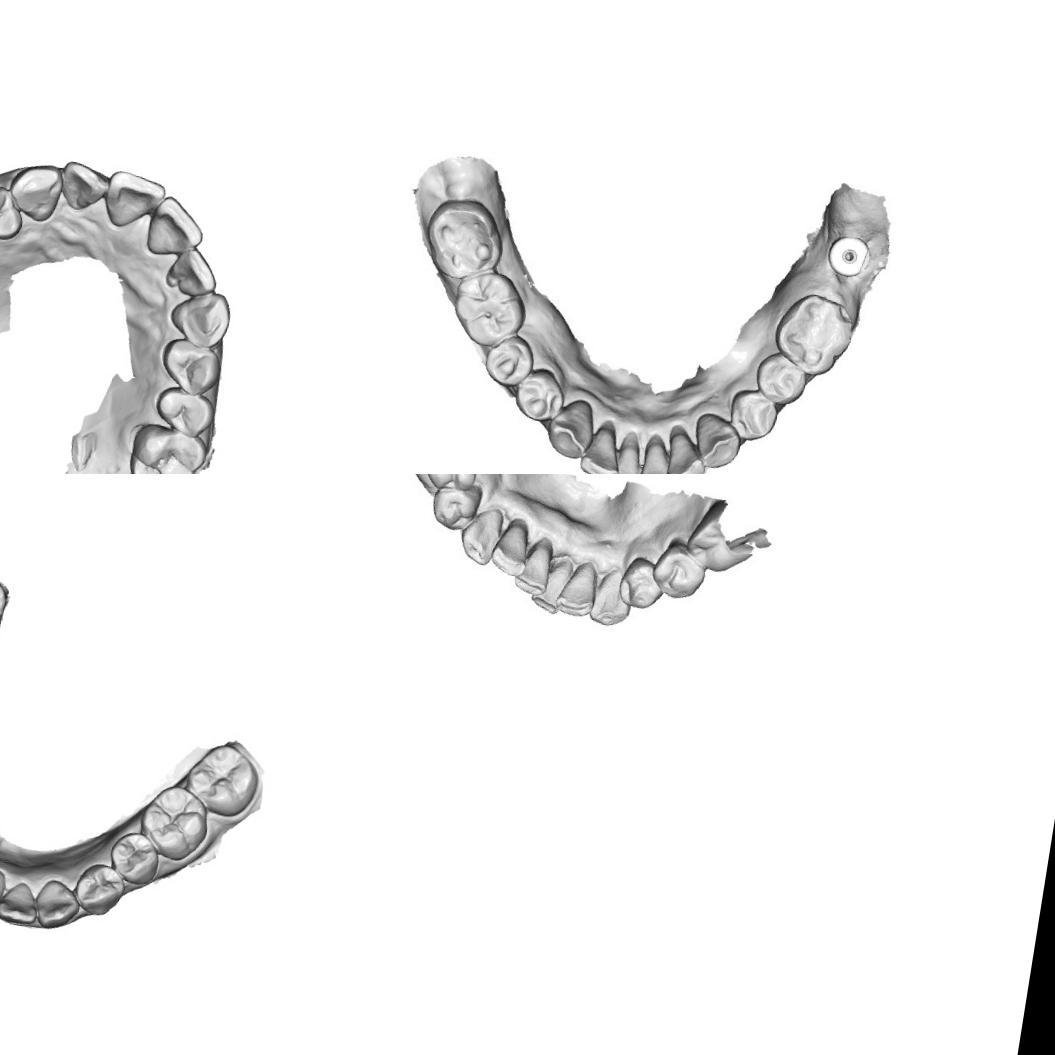canine: (164, 284, 236, 352), (4, 156, 66, 228), (541, 395, 598, 460), (690, 409, 745, 470), (458, 505, 509, 568), (31, 876, 84, 933), (593, 570, 633, 630)
implant: (824, 232, 871, 278)
incisor: (142, 191, 212, 263), (98, 168, 168, 236), (160, 239, 224, 303), (55, 156, 116, 218), (487, 522, 535, 579), (578, 418, 625, 474), (511, 538, 555, 596), (529, 557, 572, 616), (0, 876, 43, 926), (663, 427, 708, 474), (558, 568, 600, 618), (638, 432, 678, 474), (607, 432, 646, 474)
molar: (768, 288, 860, 380), (180, 738, 263, 822), (448, 268, 530, 351), (134, 780, 214, 865), (426, 198, 502, 280), (123, 420, 211, 474)
premolar: (155, 334, 226, 402), (151, 381, 219, 442), (105, 828, 163, 888), (724, 386, 782, 445), (752, 350, 810, 408), (614, 552, 670, 612), (71, 860, 128, 918), (514, 366, 564, 424), (655, 543, 705, 600), (482, 334, 533, 385), (432, 481, 482, 532), (0, 177, 30, 245), (423, 474, 479, 493)
